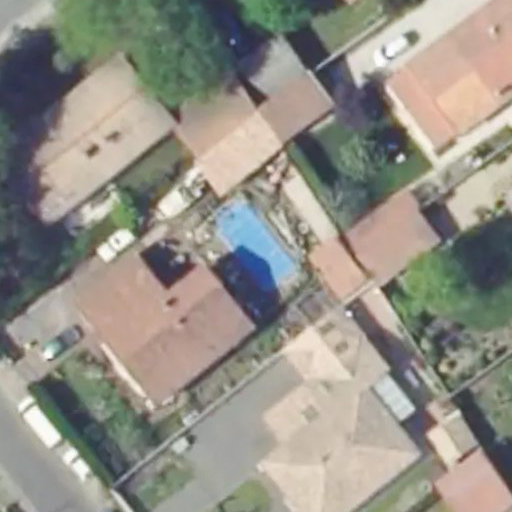pool: (209, 212, 295, 265)
